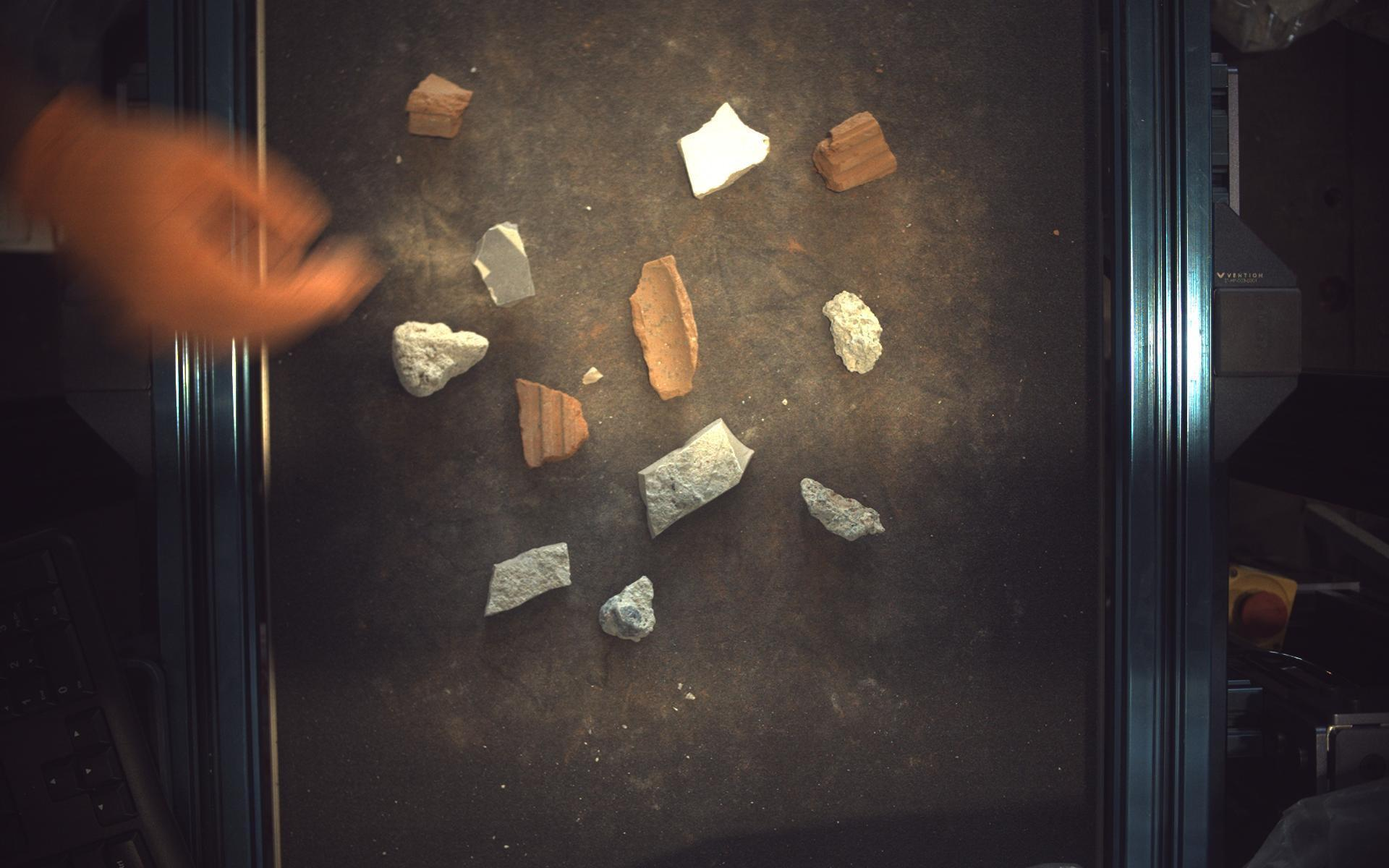brick: (631, 254, 700, 400), (516, 378, 590, 468), (815, 111, 898, 191), (406, 72, 472, 137)
concrete: (391, 320, 488, 397), (802, 478, 886, 541), (824, 290, 884, 373), (600, 576, 656, 643)
tile: (640, 419, 755, 538), (679, 101, 771, 197), (486, 543, 572, 617), (473, 221, 535, 306)
